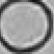no answer: (1, 1, 52, 53)
